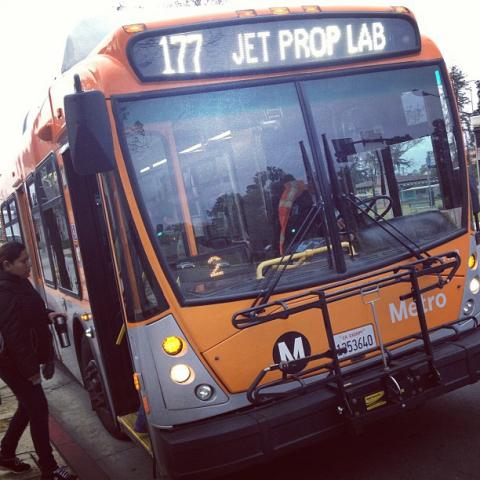bus: (2, 3, 479, 475)
